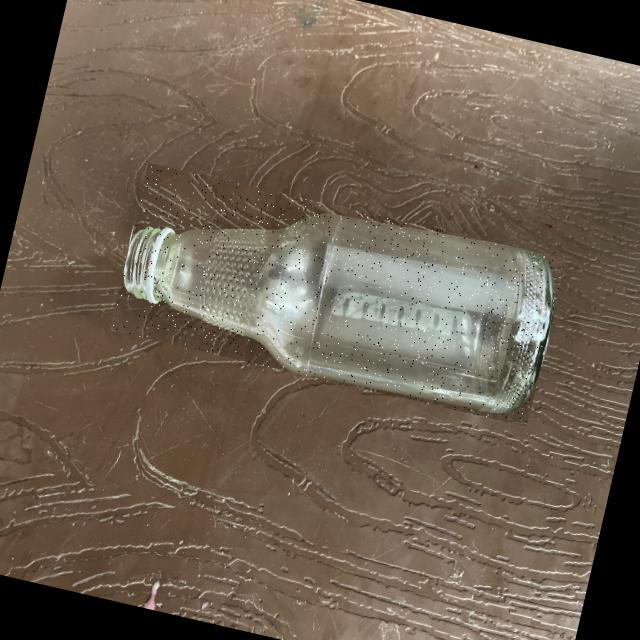Glass_Bottle: (124, 214, 553, 412)
